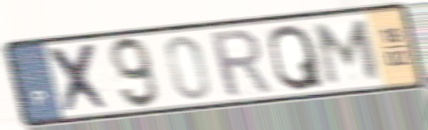0: (164, 34, 213, 102)
9: (108, 36, 161, 112)
M: (313, 18, 383, 88)
Q: (266, 22, 327, 93)
R: (206, 26, 276, 100)
X: (45, 40, 116, 117)
